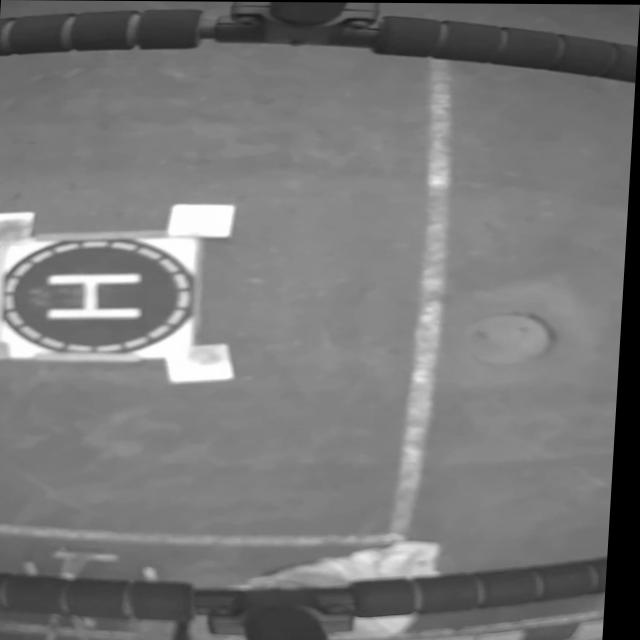Helipad: (49, 273, 145, 320)
